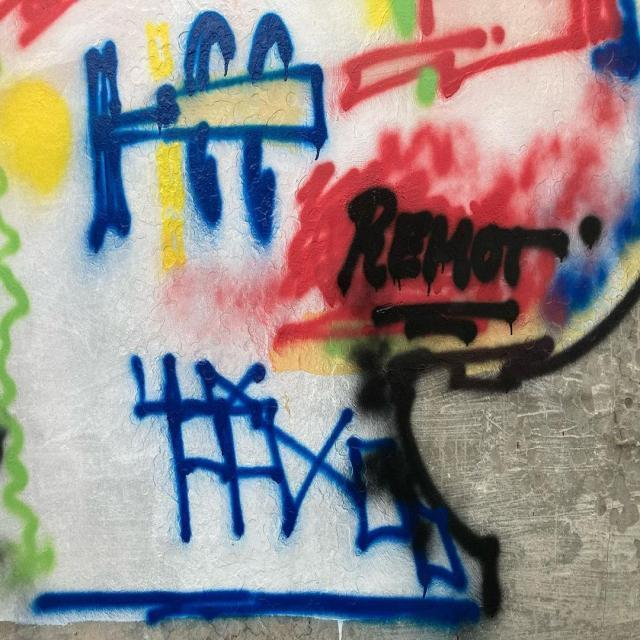nonspitting: (130, 352, 474, 591), (87, 8, 329, 270), (341, 186, 604, 347), (338, 0, 618, 109), (0, 169, 58, 576), (0, 78, 73, 192), (0, 0, 78, 48)
